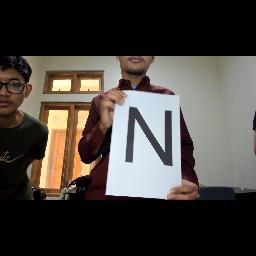n: (122, 103, 176, 171)
